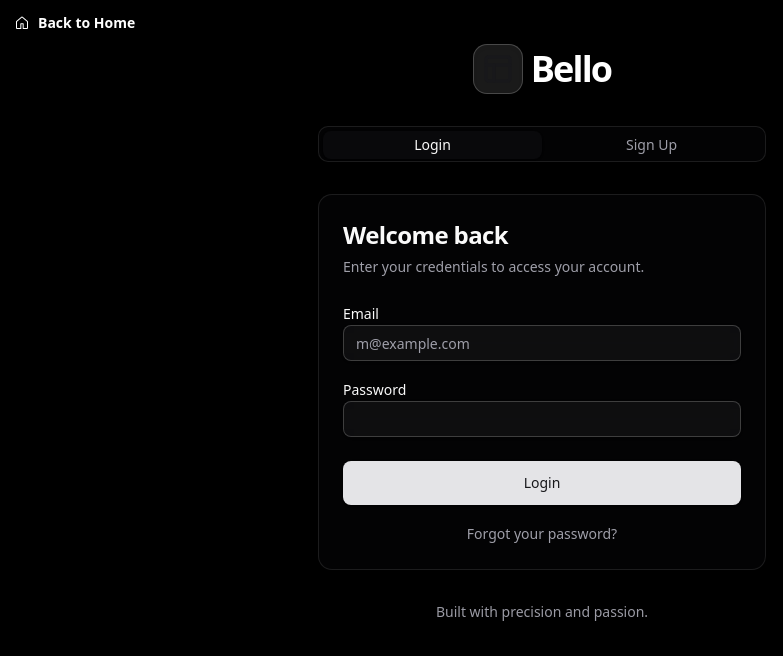
Test: Login Component › can toggle to signup form using userEvent click
Expected: the button "Login" is shown, x1=343 y1=461 x2=741 y2=505
# Click the toggle button to 'Sign up'
What coordinates should you click on to do the following:
click the tab "Sign Up"
I would click on:
 (652, 145)
Its box is x1=542 y1=131 x2=761 y2=159.
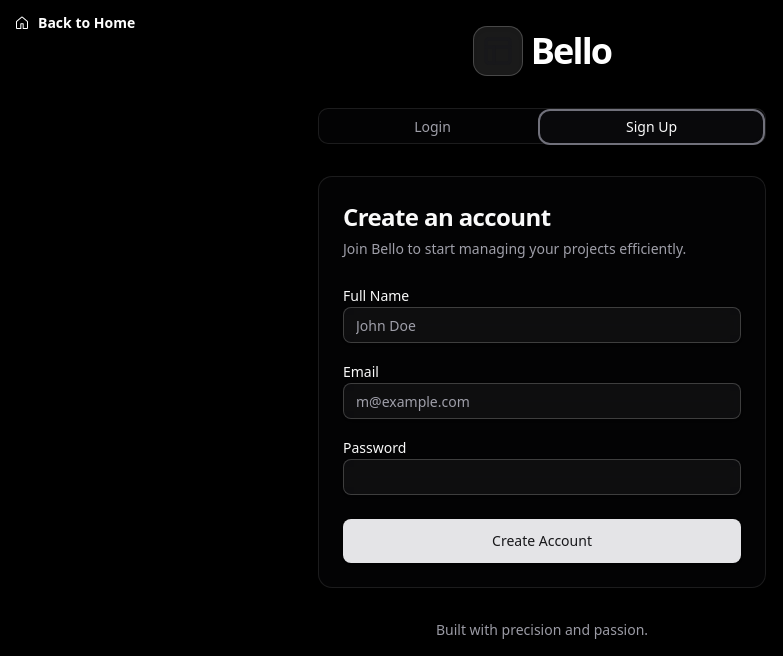
Result: the text "Create an account" is shown at x1=343 y1=200 x2=550 y2=233
Result: the button "Create Account" is shown at x1=343 y1=519 x2=741 y2=563
